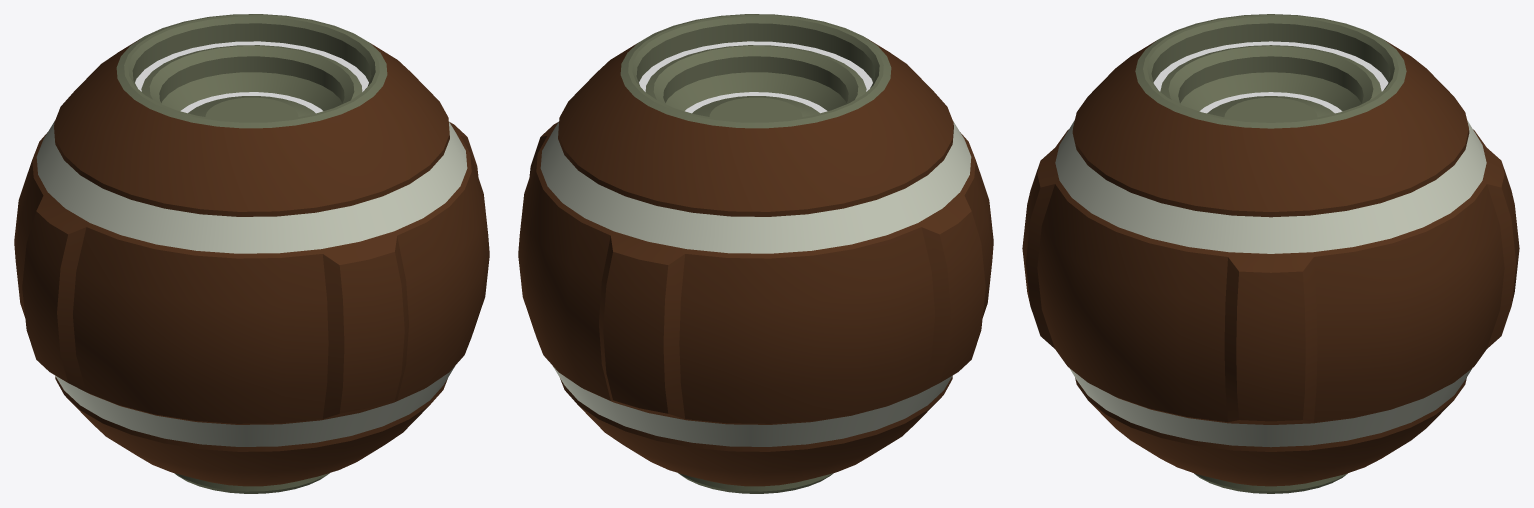
File: Pod.fbx
3 renders of one model, left to right at view 1: azimuth 30°, elevation 25°; view 2: azimuth 150°, elevation 25°; view 3: azimuth 270°, elevation 25°, orthographic.
Parts seen in each view (by area): view 1: Sphere; view 2: Sphere; view 3: Sphere.
Part boxes in pixels (<box>): Sphere: <box>14,14,489,493</box>; Sphere: <box>518,14,993,493</box>; Sphere: <box>1022,14,1519,493</box>.
Size of the model in its own units: 261 by 225 by 261.
